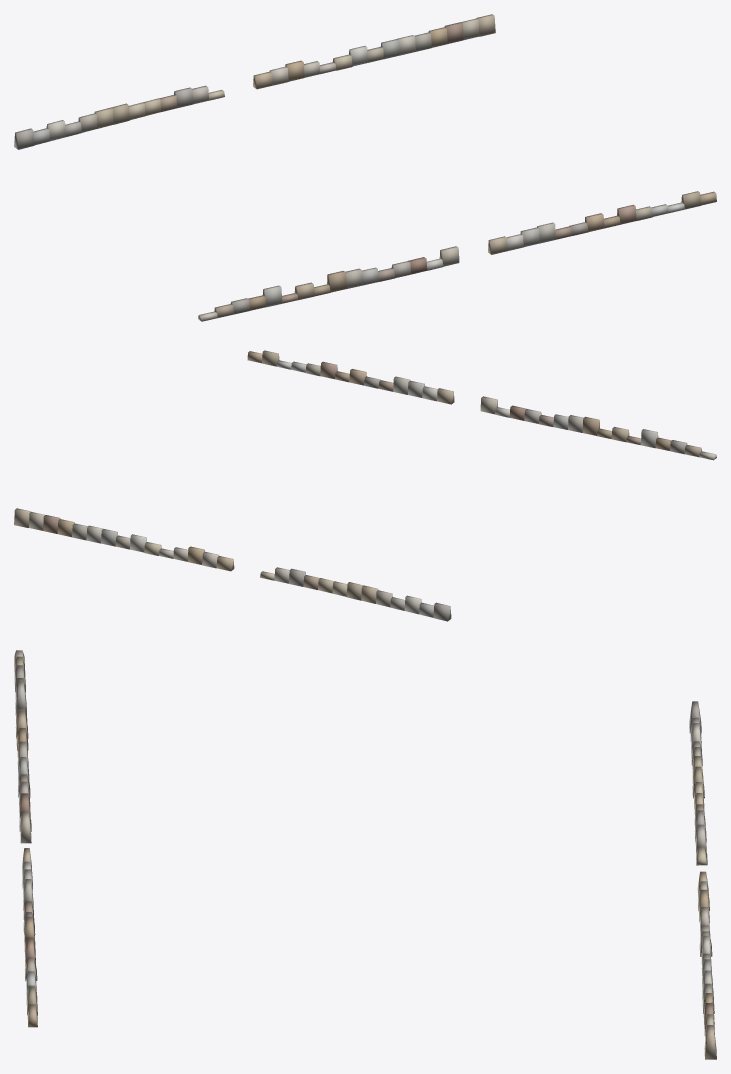
Rendered from farm_28_22_collision.glb.
The picture shows the model from 3 angles, top to bottom: view 1: azimuth 30°, elevation 25°; view 2: azimuth 150°, elevation 25°; view 3: azimuth 270°, elevation 25°; orthographic projection. The views are drawn at different scales.
Visible parts, largest first — view 1: geometry_0; view 2: geometry_0; view 3: geometry_0.
Part boxes in pixels (left/top/right/bottom): geometry_0: left=14, top=14, right=716, bottom=321; geometry_0: left=14, top=350, right=716, bottom=621; geometry_0: left=14, top=650, right=716, bottom=1059.
Bounding box in the file's own units: 53.14 × 3.58 × 42.73.
